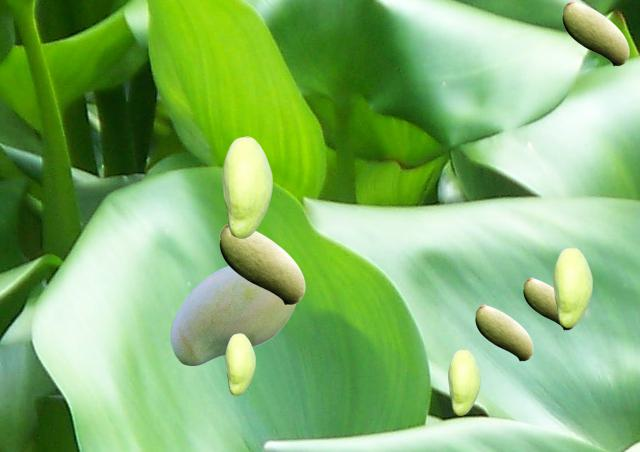green_mango: (170, 266, 296, 364), (219, 224, 304, 304), (222, 136, 271, 237), (562, 0, 628, 65), (475, 304, 532, 360), (553, 247, 591, 326), (523, 277, 574, 329), (448, 349, 479, 414), (225, 333, 254, 394)
